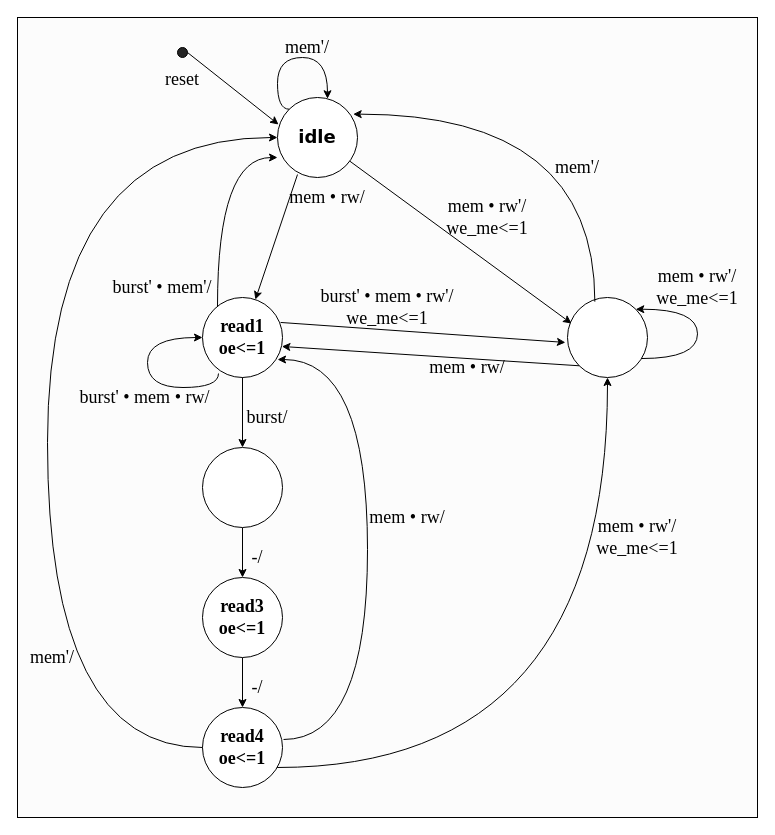
Some shapes in this 775 by 835 pixel diagram are drawn without their labels. Here are the shapes that lost their labels. From the top down, the centre of each, then its label:
At pixel 607 337: "write we<=1".
At pixel 242 487: "read2 oe<=1".
